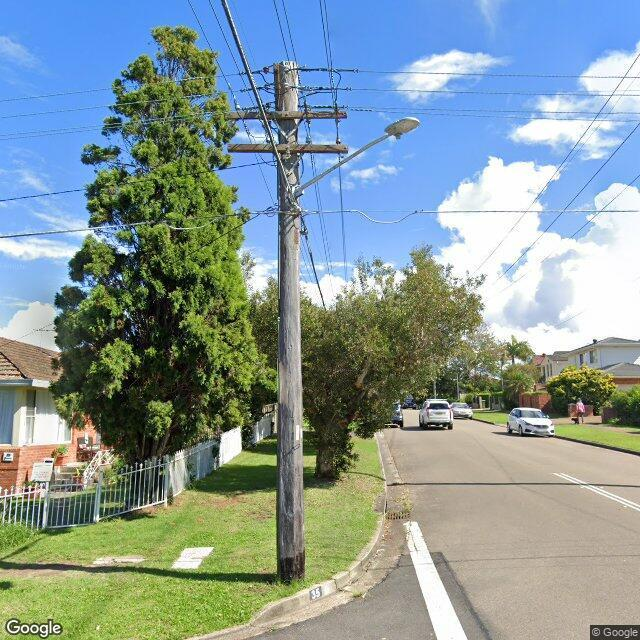crossarm: (226, 140, 349, 155), (229, 110, 349, 120), (274, 62, 282, 110)
streetlight: (297, 116, 422, 196)
timber-pole: (272, 62, 304, 582)
